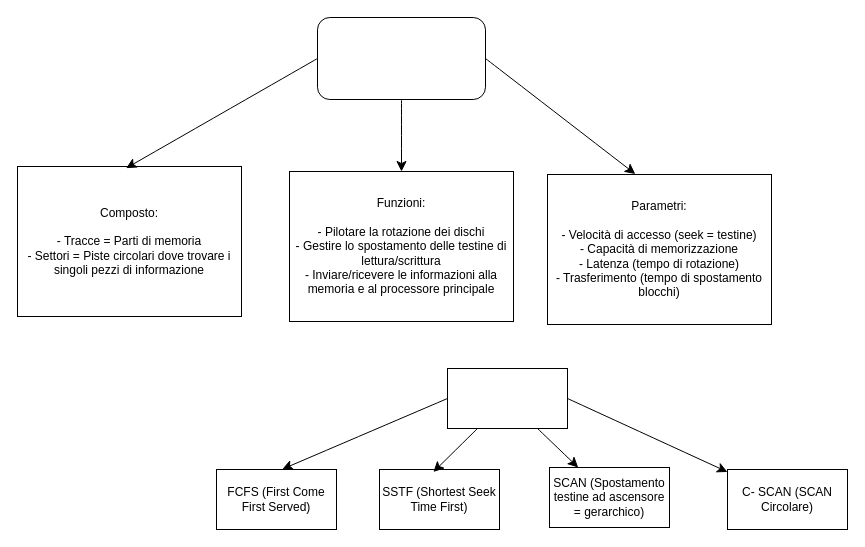
This 865x547 diagram has some shape labels left out. The shapes that lost their labels are listed below. From the top down, each one's centre as x and y in pixels, then its label:
At pixel 401 58: "Hard Disk (Memorizzazione permanente delle informazioni - I/O)".
At pixel 507 398: "Schedulazione".
